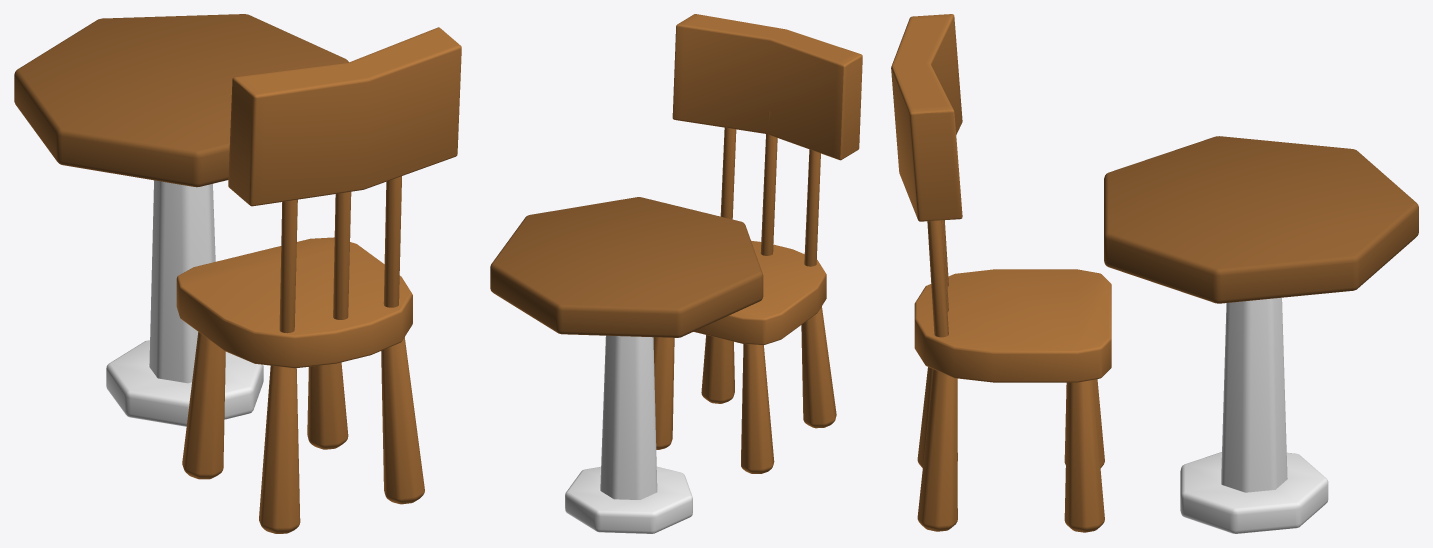
The model's file is kahvemasa_sandalye.fbx.
3 renders of one model, left to right at view 1: azimuth 30°, elevation 25°; view 2: azimuth 150°, elevation 25°; view 3: azimuth 270°, elevation 25°, orthographic. The views are drawn at different scales.
Parts seen in each view (by area): view 1: Cube.044, Cylinder.006; view 2: Cylinder.006, Cube.044; view 3: Cylinder.006, Cube.044.
Boxes of the visible parts, box(x1,y1,x2,y2) form: Cube.044: box(176, 27, 461, 533); Cylinder.006: box(14, 14, 348, 426); Cylinder.006: box(490, 197, 763, 533); Cube.044: box(653, 14, 862, 473); Cylinder.006: box(1104, 136, 1418, 533); Cube.044: box(891, 14, 1111, 532).
Size of the model in its own units: 236 by 354 by 385.
